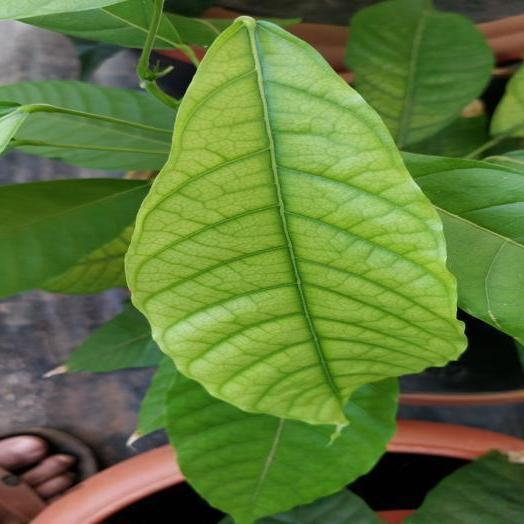Healthy Leaf: (166, 374, 397, 523), (404, 154, 523, 341), (0, 180, 148, 297), (46, 303, 161, 375), (131, 357, 175, 441)
Iron: (126, 17, 464, 426), (344, 0, 493, 148)
